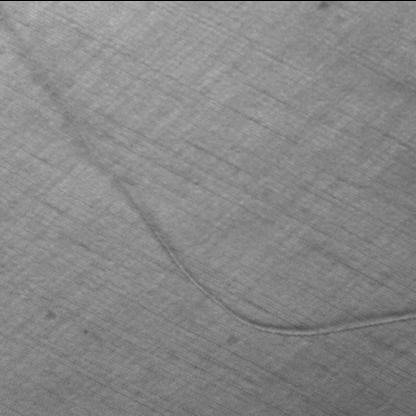objects: (0, 1, 414, 335)
